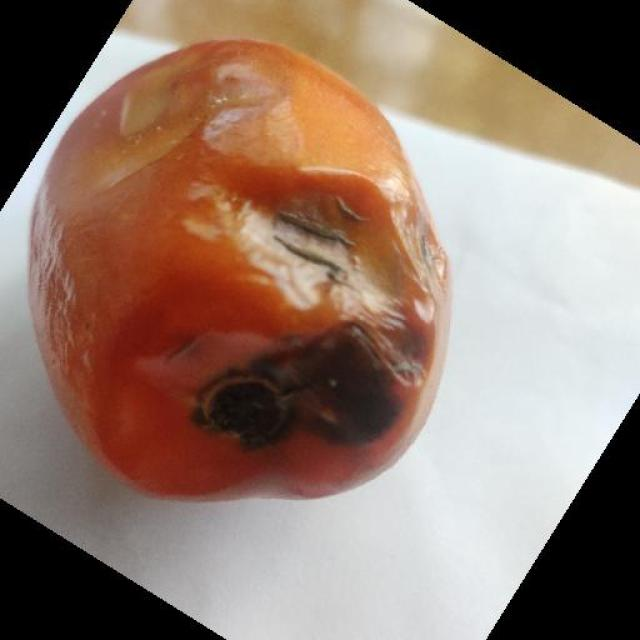Stale_tomato: (62, 71, 440, 502)
